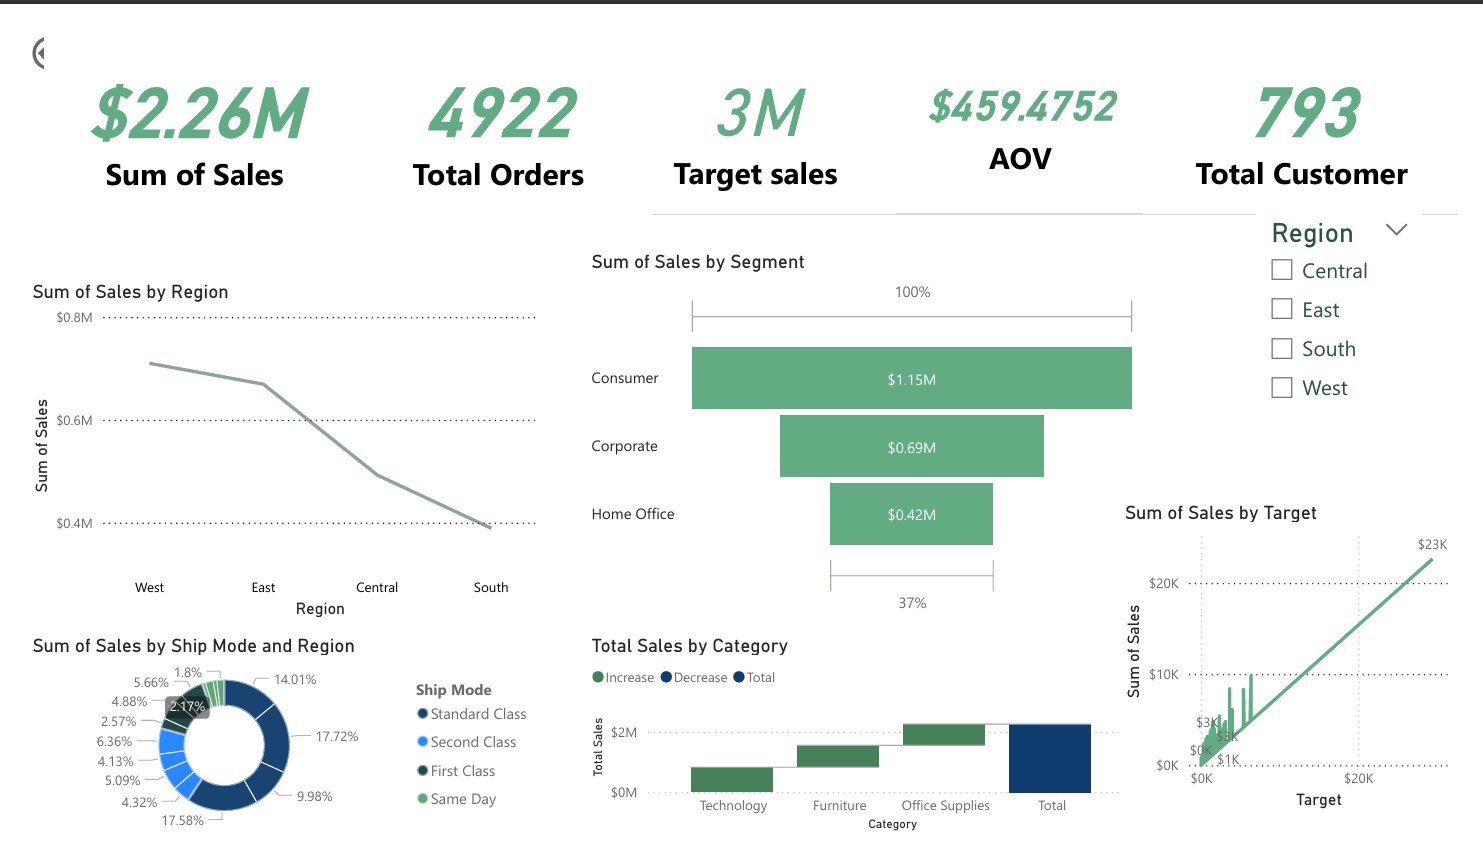

Layout of this report page (visuals, bound fields, positions):
{"tool":"powerbi","page":{"name":"Page 1","canvas":[1280,720],"ordinal":0},"visuals":[{"type":"actionButton","box":[0,0,100,40],"z":0},{"type":"card","fields":{"Values":["Sum(Clean_sales data.Sales)"]},"box":[15.8,0,268.4,164.8],"z":0,"group":"g1"},{"type":"group","id":"g1","title":"Group 1","box":[15.8,0,1264.7,164.8],"z":1000},{"type":"card","fields":{"Values":["Clean_sales data.Total Orders"]},"box":[284.2,0,274.7,164.8],"z":1000,"group":"g1"},{"type":"card","fields":{"Values":["Clean_sales data.Target sales"]},"box":[524.5,0,253.2,164.4],"z":2000,"group":"g1"},{"type":"lineChart","fields":{"Category":["Clean_sales data.Region"],"Y":["Sum(Clean_sales data.Sales)"]},"box":[0,223,461.1,306.1],"z":2000},{"type":"slicer","fields":{"Values":["Clean_sales data.Region"]},"box":[1100,162,148,180],"z":3000},{"type":"card","fields":{"Values":["Clean_sales data.AOV"]},"box":[764.5,0,247.6,162.5],"z":4000,"group":"g1"},{"type":"funnel","fields":{"Category":["Clean_sales data.Segment"],"Y":["Sum(Clean_sales data.Sales)"]},"box":[500,196,498,332],"z":4000},{"type":"card","fields":{"Values":["Clean_sales data.Total Customer"]},"box":[998.9,0,281.6,164.4],"z":5000,"group":"g1"},{"type":"donutChart","fields":{"Category":["Clean_sales data.Ship Mode"],"Series":["Clean_sales data.Region"],"Y":["Sum(Clean_sales data.Sales)"]},"box":[0,539,461,181],"z":5000},{"type":"waterfallChart","fields":{"Y":["Clean_sales data.Total Sales"],"Category":["Clean_sales data.Category"]},"box":[500,539,498,181],"z":6000},{"type":"lineChart","fields":{"Category":["Clean_sales data.Target"],"Y":["Sum(Clean_sales data.Sales)"]},"box":[977.1,419.9,303.3,280],"z":7000}]}

Visuals, with their boxes on the page's 1280x720 design canvas (x1, y1, x2, y2). These are canvas units, not pixel positions in the 1483x862 screenshot, which may show the page scaled, cropped or inside an application window:
actionButton: (left=0, top=0, right=100, bottom=40)
card - Sum(Clean_sales data.Sales): (left=16, top=0, right=284, bottom=165)
"Group 1" group: (left=16, top=0, right=1280, bottom=165)
card - Clean_sales data.Total Orders: (left=284, top=0, right=559, bottom=165)
card - Clean_sales data.Target sales: (left=524, top=0, right=778, bottom=164)
lineChart - Clean_sales data.Region x Sum(Clean_sales data.Sales): (left=0, top=223, right=461, bottom=529)
slicer - Clean_sales data.Region: (left=1100, top=162, right=1248, bottom=342)
card - Clean_sales data.AOV: (left=764, top=0, right=1012, bottom=162)
funnel - Clean_sales data.Segment x Sum(Clean_sales data.Sales): (left=500, top=196, right=998, bottom=528)
card - Clean_sales data.Total Customer: (left=999, top=0, right=1280, bottom=164)
donutChart - Clean_sales data.Ship Mode x Clean_sales data.Region: (left=0, top=539, right=461, bottom=720)
waterfallChart - Clean_sales data.Total Sales x Clean_sales data.Category: (left=500, top=539, right=998, bottom=720)
lineChart - Clean_sales data.Target x Sum(Clean_sales data.Sales): (left=977, top=420, right=1280, bottom=700)
